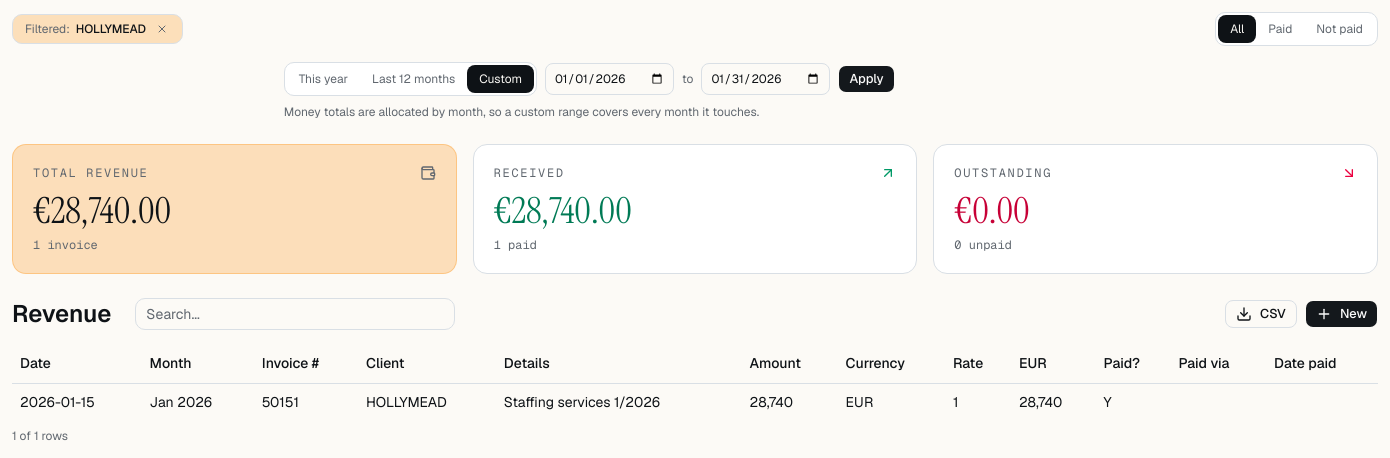
Test case: Revenue drill-down by client › restores every row when the chip is cleared
The width and height of the screenshot is (1390, 458).
What coordinates should you click on to do the following:
click the button named "Clear HOLLYMEAD filter"
I would click on:
 (162, 29)
Its box is left=154, top=21, right=170, bottom=37.
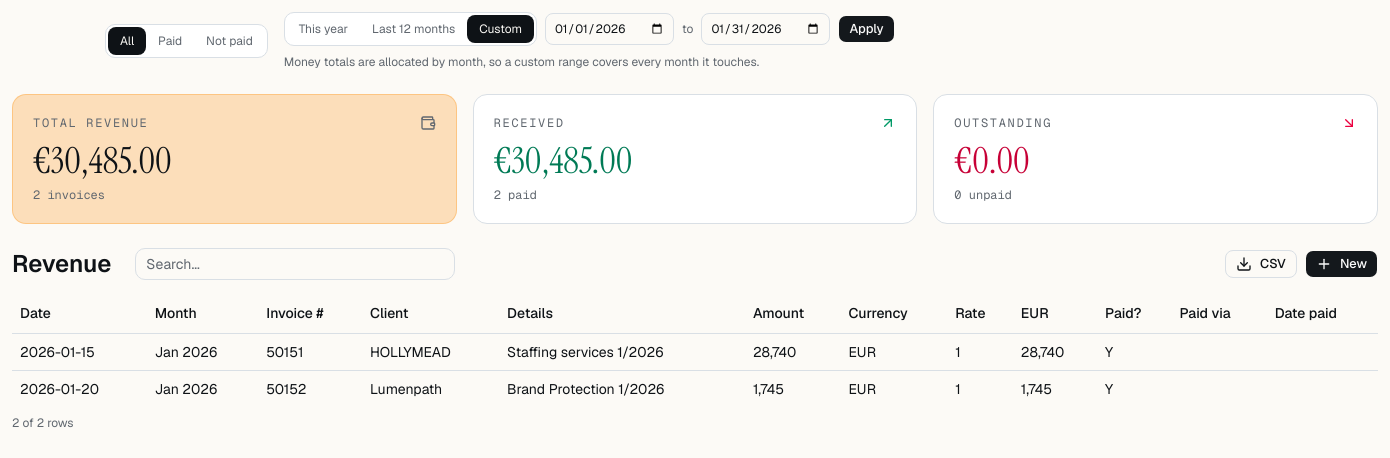
Expected: the text "50151" is shown, left=258, top=333, right=362, bottom=370
Expected: the text "50152" is shown, left=258, top=370, right=362, bottom=406
